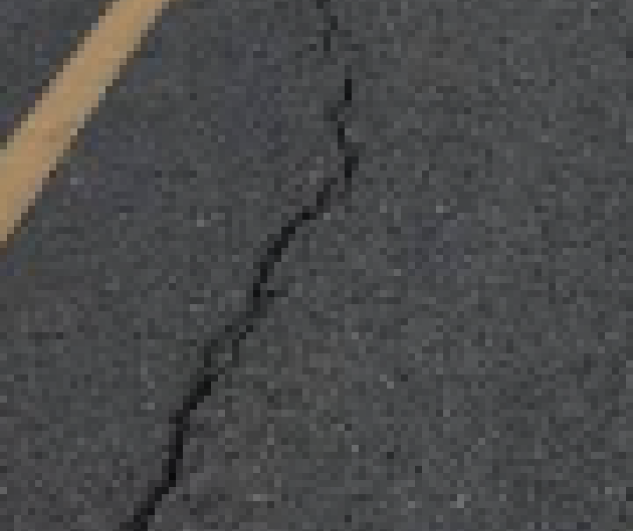Retak Memanjang: (107, 198, 333, 531), (307, 4, 375, 222)
